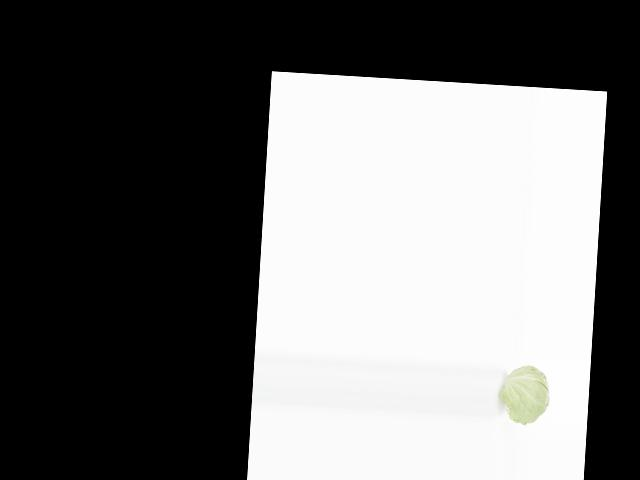lettuce: (503, 360, 552, 428)
